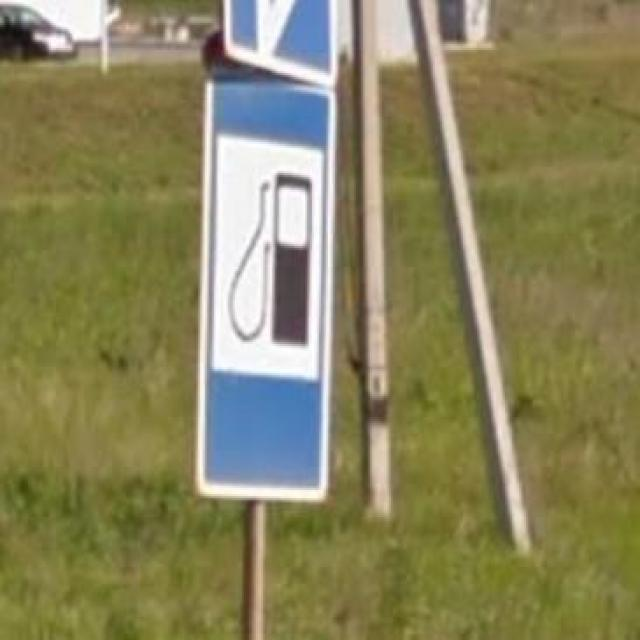traffic_sign: (194, 62, 338, 504)
